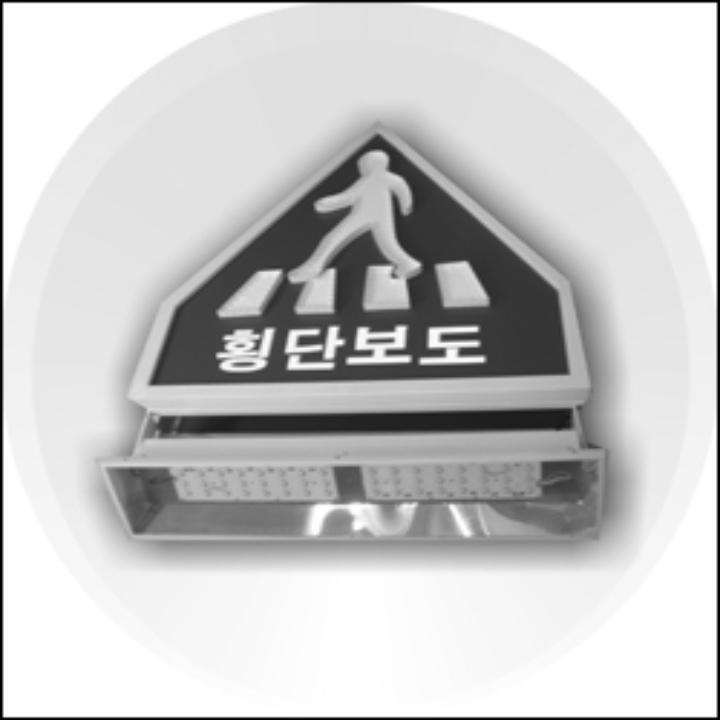cross: (207, 146, 544, 315)
